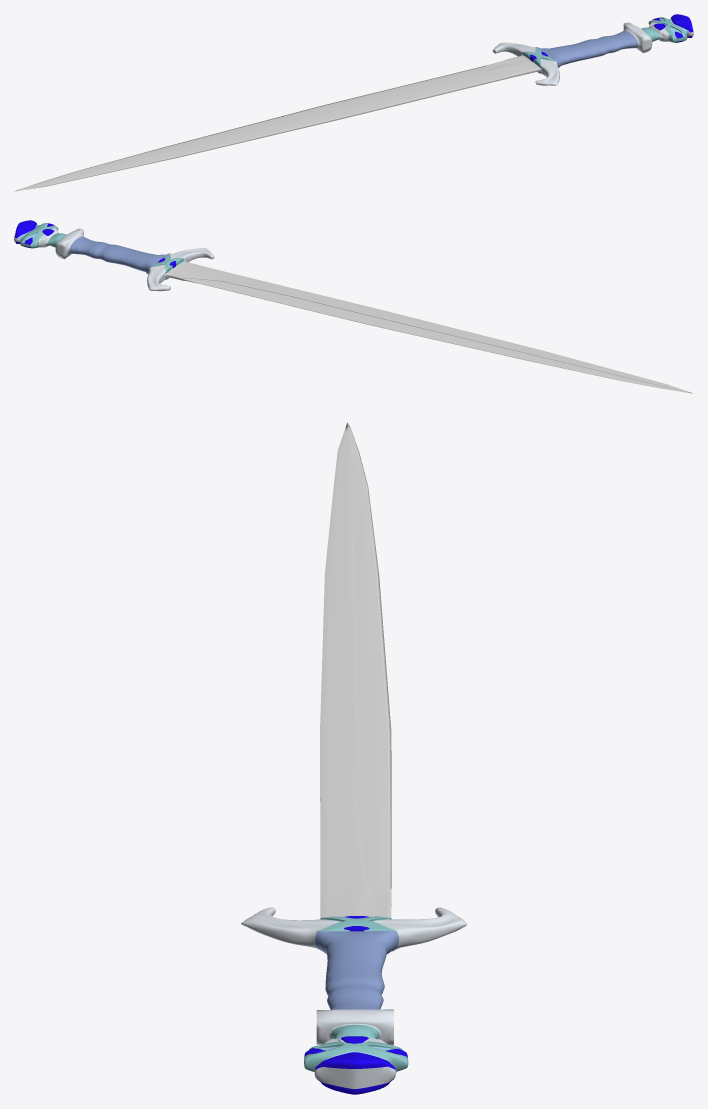
File: icebrand.fbx
3 renders of one model, top to bottom at view 1: azimuth 30°, elevation 25°; view 2: azimuth 150°, elevation 25°; view 3: azimuth 270°, elevation 25°, orthographic. The views are drawn at different scales.
Visible parts, largest first — view 1: Cube; view 2: Cube; view 3: Cube.
Part boxes in pixels (x1,y1,x2,y2): Cube: (14,14,693,191); Cube: (14,220,692,393); Cube: (241,422,466,1094).
Bounding box in the file's own units: 0.2483 × 0.0059 × 0.0362.
